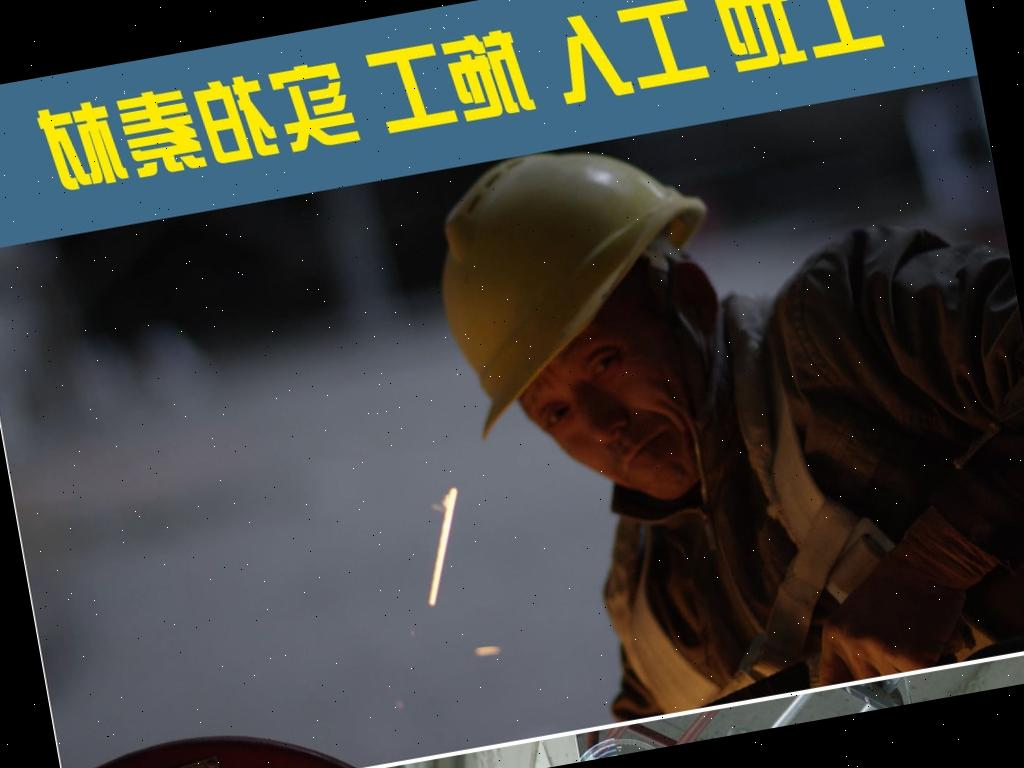helmet: (414, 122, 734, 428)
